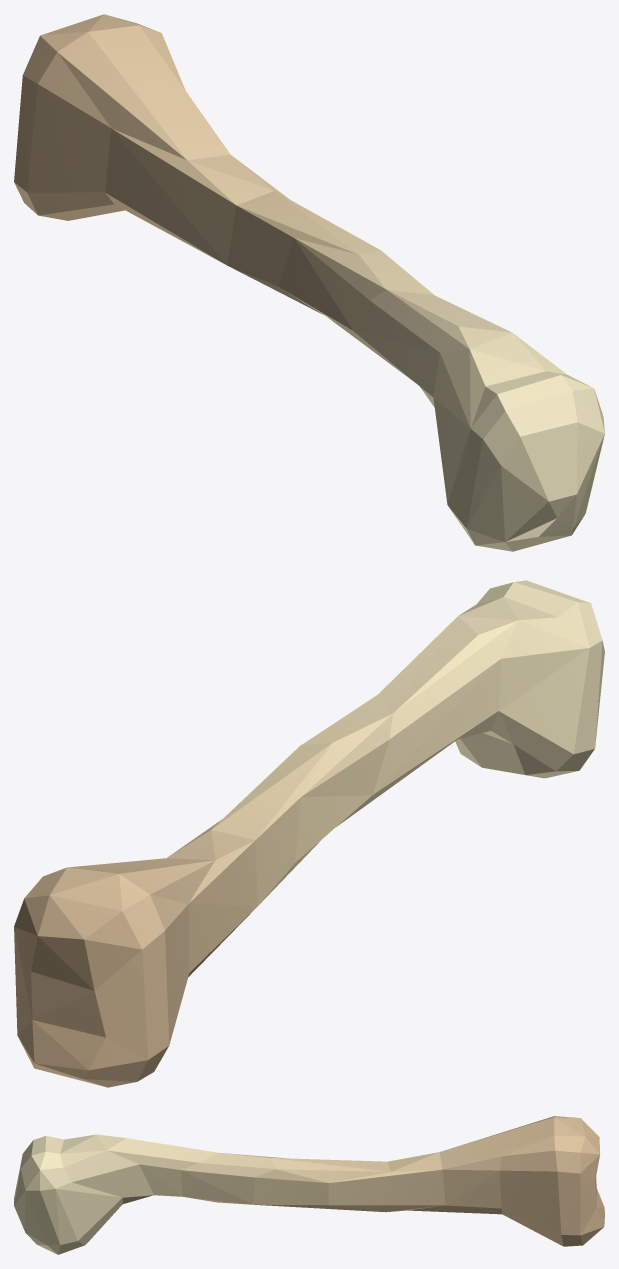
The model's file is humerus.fbx.
The picture shows the model from 3 angles, top to bottom: view 1: azimuth 30°, elevation 25°; view 2: azimuth 150°, elevation 25°; view 3: azimuth 270°, elevation 25°; orthographic projection. The views are drawn at different scales.
Parts seen in each view (by area): view 1: Humerus; view 2: Humerus; view 3: Humerus.
Boxes of the visible parts, <box> form: Humerus: <box>14,14,604,551</box>; Humerus: <box>14,580,604,1087</box>; Humerus: <box>14,1116,604,1254</box>.
Size of the model in its own units: 5.74 by 8 by 35.19.
